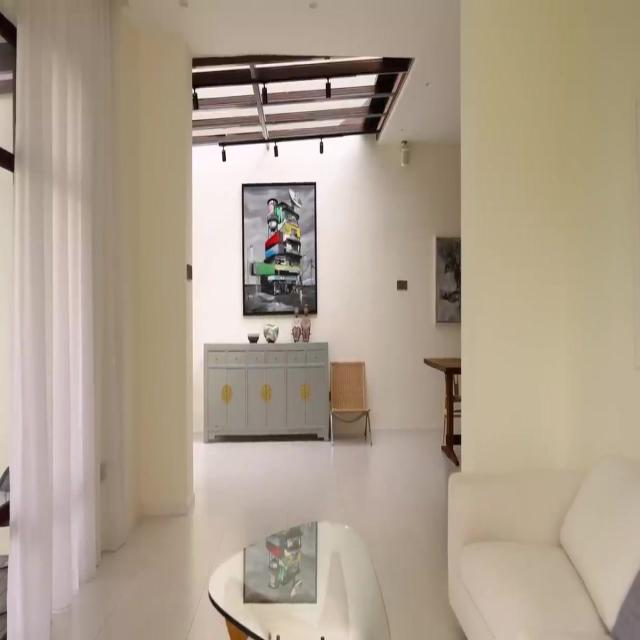obstacle: (446, 452, 640, 638), (207, 518, 391, 639), (423, 356, 461, 466), (329, 360, 372, 446)
